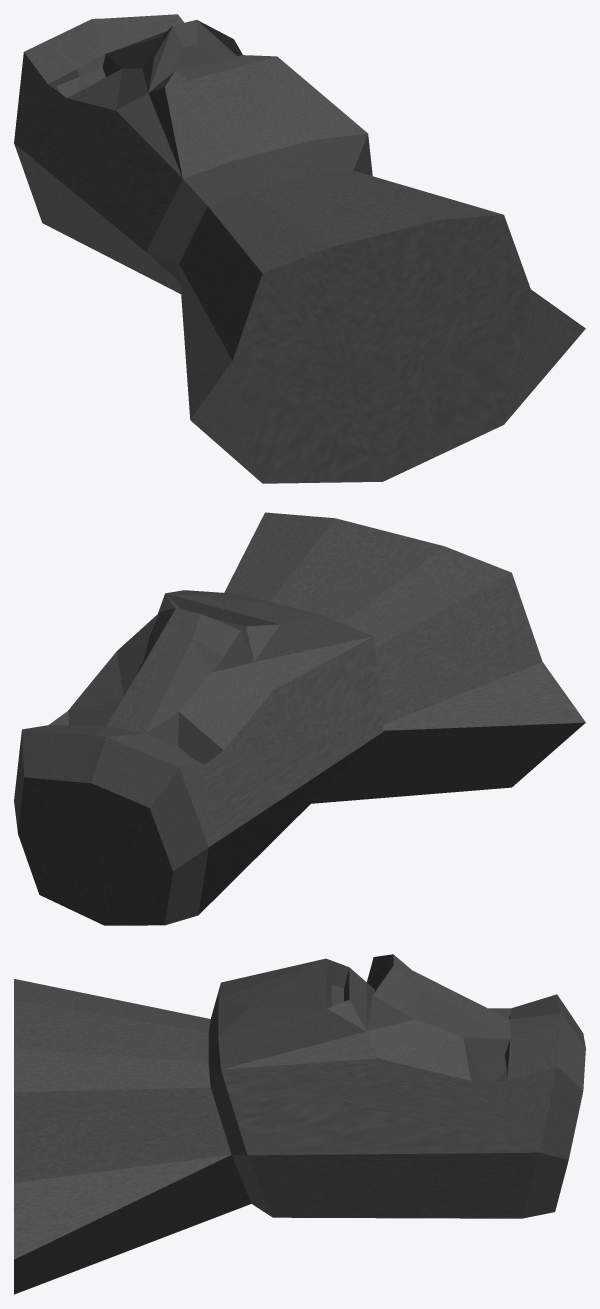
Rendered from statue_symbol_moai.FBX.
3 views of the same model, one above another, from view 1: azimuth 30°, elevation 25°; view 2: azimuth 150°, elevation 25°; view 3: azimuth 270°, elevation 25° (orthographic). The views are drawn at different scales.
Visible parts, largest first — view 1: statue_8; view 2: statue_8; view 3: statue_8.
Part boxes in pixels (left/top/right/bottom): statue_8: left=14, top=14, right=585, bottom=483; statue_8: left=14, top=512, right=585, bottom=925; statue_8: left=14, top=954, right=585, bottom=1294.
Size of the model in its own units: 142 by 108 by 184.
